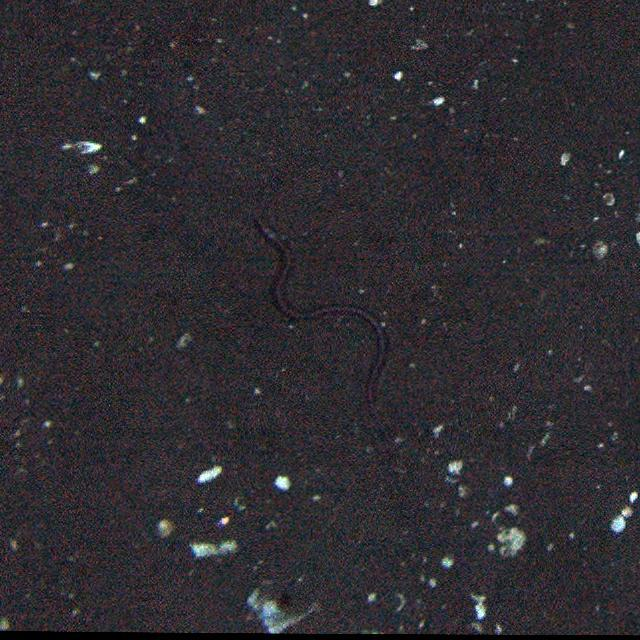eel: (256, 214, 396, 450)
